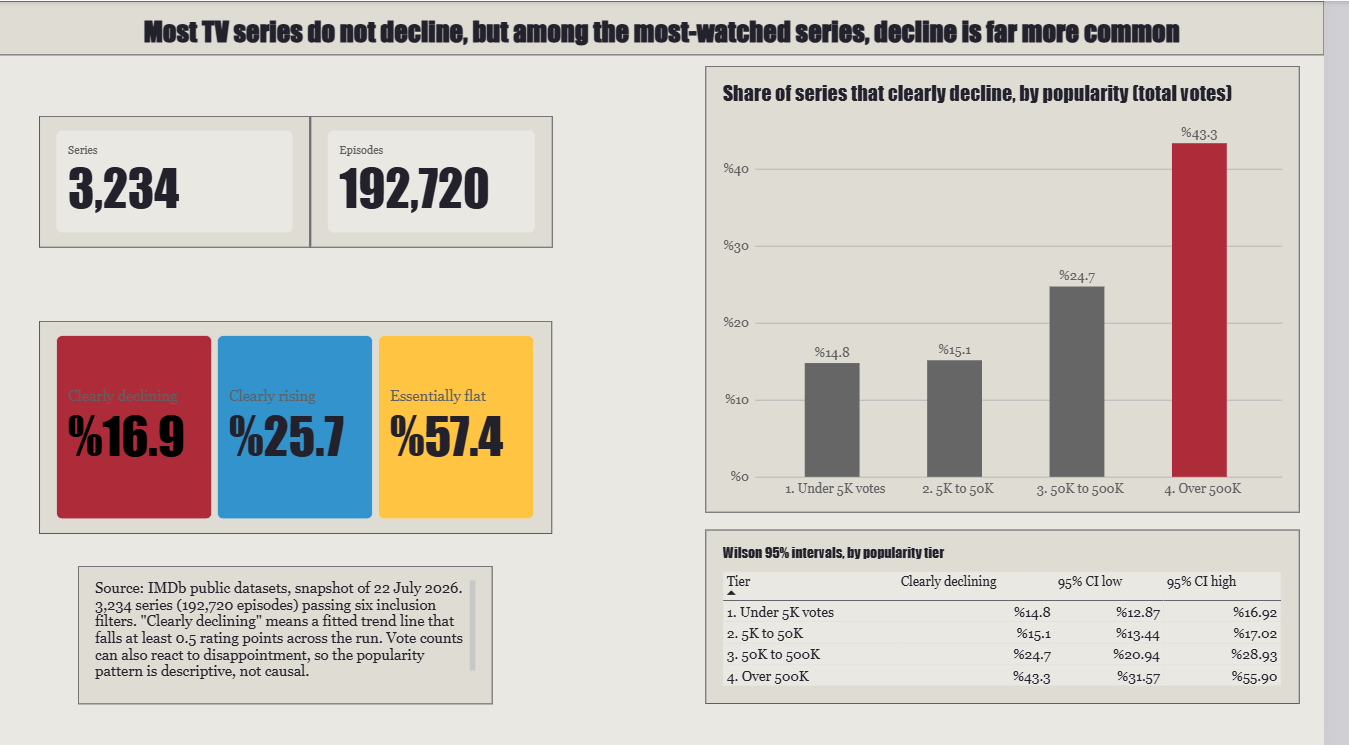

The dashboard page shown, as its layout file describes it:
{"tool":"powerbi","page":{"name":"Page 1","canvas":[1920,1080],"ordinal":0},"visuals":[{"type":"cardVisual","fields":{"Data":["series.Decline Share","series.Rise Share","series.Flat Share"]},"box":[60,464,742,308],"z":0},{"type":"clusteredColumnChart","title":"Share of series that clearly decline, by popularity (total votes)","fields":{"Category":["series.Tier"],"Y":["series.Decline Share"]},"box":[1024,94,860,646],"z":1000},{"type":"tableEx","title":"Wilson 95% intervals, by popularity tier","fields":{"Values":["series.Tier","series.Decline Share","series.Wilson Lower","series.Wilson Upper"]},"box":[1024,766,860,252],"z":2000},{"type":"cardVisual","fields":{"Data":["series.Episode Count"]},"box":[452,166,350,190],"z":3000},{"type":"cardVisual","fields":{"Data":["series.Series Count"]},"box":[60,166,392,190],"z":4000},{"type":"textbox","title":"Most TV series do not decline, but among the most-watched series, decline is far more common","box":[0,0,1920,78],"z":5000},{"type":"textbox","box":[116,818,600,200],"z":6000}]}

Visuals, with their boxes in screenshot pixels (x1, y1, x2, y2), scaled from the page's 1920x1080 canvas onto the 1349x745 screenshot:
cardVisual - series.Decline Share x series.Rise Share: BBox(42, 320, 563, 533)
"Share of series that clearly decline, by popularity (total votes)" clusteredColumnChart: BBox(719, 65, 1324, 510)
"Wilson 95% intervals, by popularity tier" tableEx: BBox(719, 528, 1324, 702)
cardVisual - series.Episode Count: BBox(318, 115, 563, 246)
cardVisual - series.Series Count: BBox(42, 115, 318, 246)
"Most TV series do not decline, but among the most-watched series, decline is far more common" textbox: BBox(0, 0, 1348, 54)
textbox: BBox(82, 564, 503, 702)
